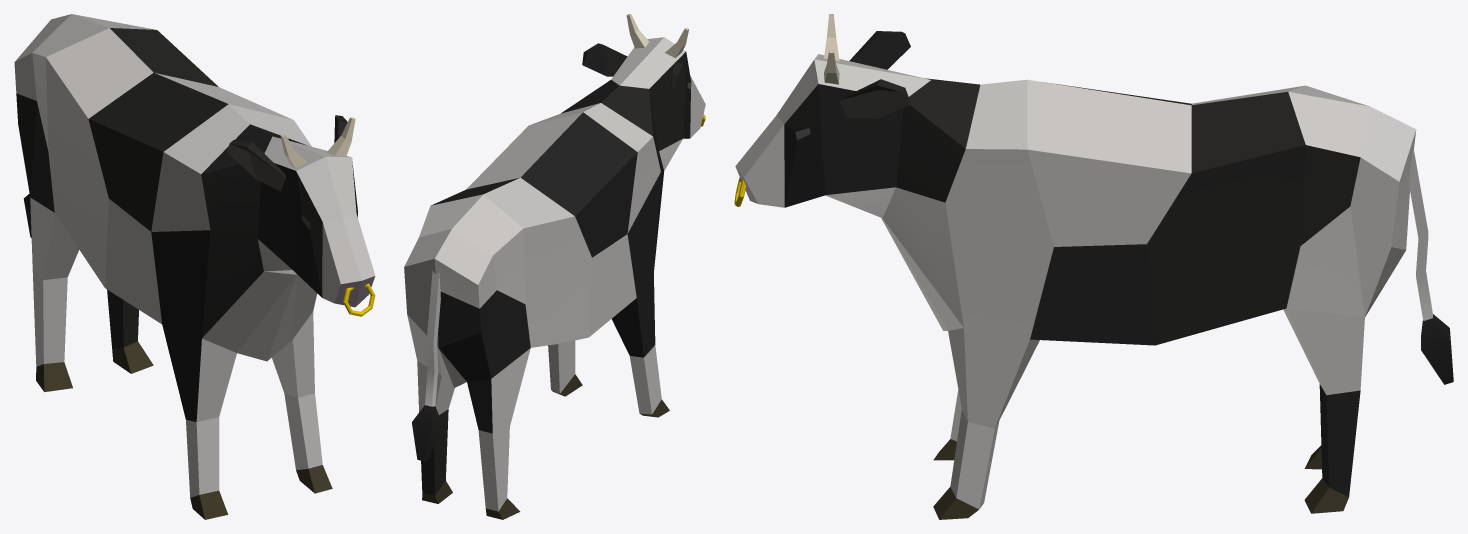
The model's file is cowFBX.fbx.
3 views of the same model, side by side, from view 1: azimuth 30°, elevation 25°; view 2: azimuth 150°, elevation 25°; view 3: azimuth 270°, elevation 25° (orthographic). The views are drawn at different scales.
Parts seen in each view (by area): view 1: cowBody, cowEar2, cowHorn1; view 2: cowBody, cowTail, cowEar1, cowHorn1; view 3: cowBody, cowTail, cowEar1, cowEar2.
Part boxes in pixels (<box>): cowBody: <box>14,14,375,519</box>; cowEar2: <box>227,140,285,191</box>; cowHorn1: <box>326,117,355,155</box>; cowBody: <box>404,37,705,519</box>; cowTail: <box>412,271,442,461</box>; cowEar1: <box>582,43,627,76</box>; cowHorn1: <box>626,14,649,48</box>; cowBody: <box>735,54,1416,519</box>; cowTail: <box>1409,149,1453,384</box>; cowEar1: <box>839,79,910,118</box>; cowEar2: <box>849,31,910,69</box>.
Bounding box in the file's own units: 492 × 1491 × 2143.
